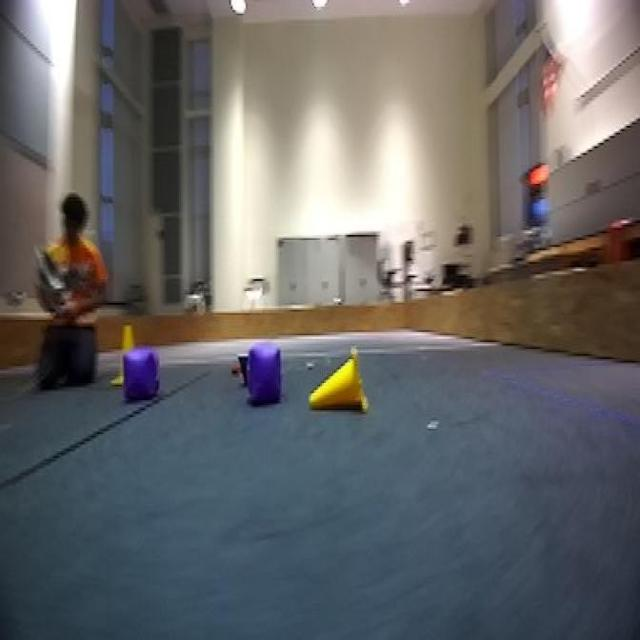frc_cone: (307, 341, 372, 422), (112, 325, 141, 385)
frc_cube: (250, 340, 284, 412), (127, 351, 163, 404)
